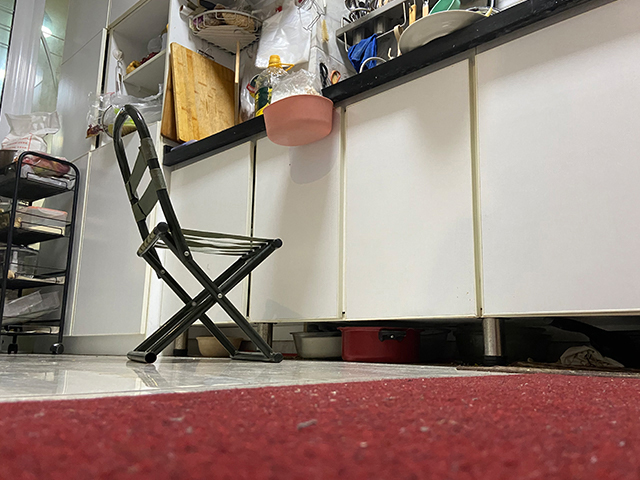cabinet: (158, 1, 640, 361), (72, 130, 170, 358)
carpet: (1, 373, 640, 478), (455, 363, 640, 378)
stool: (112, 104, 285, 364)
